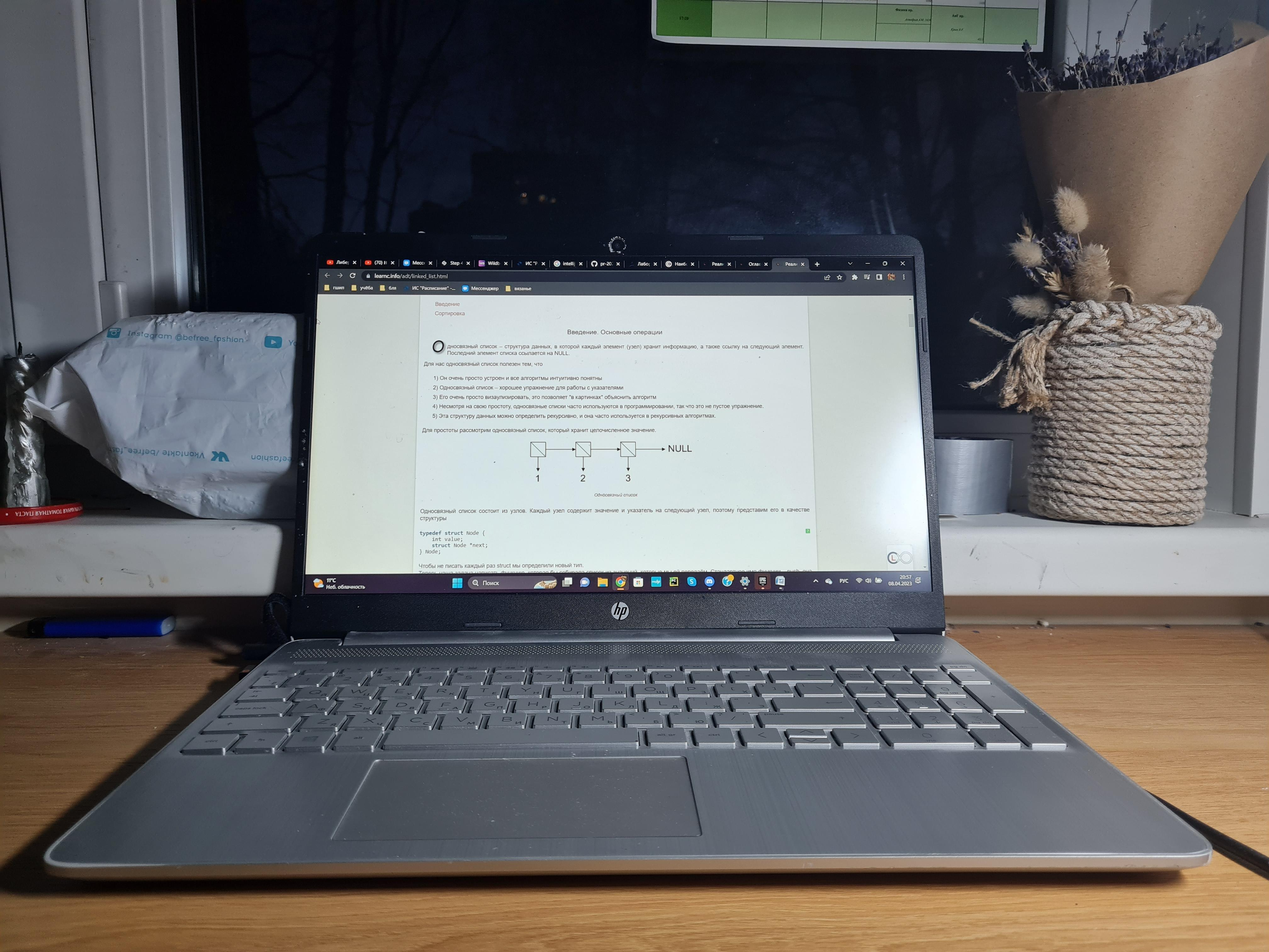monitor: (277, 234, 949, 634)
